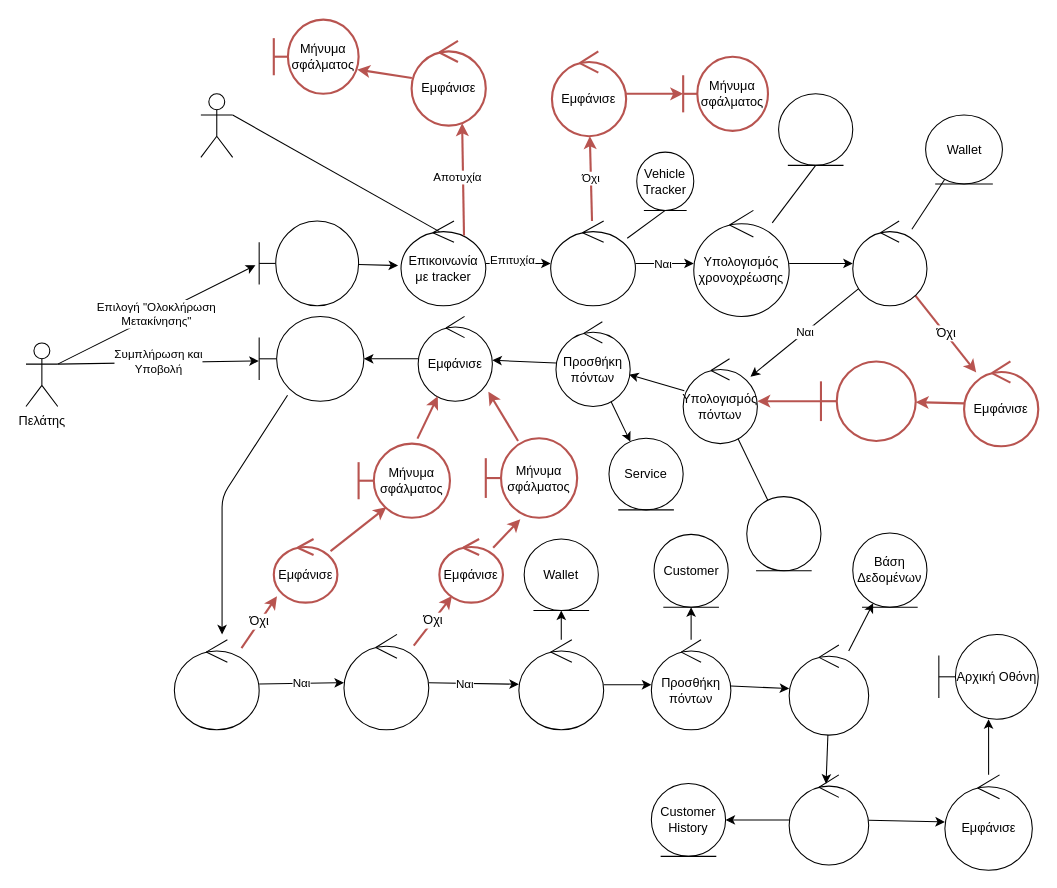
Some shapes in this 1057 by 888 pixel diagram are drawn without their labels. Here are the shapes that lost their labels. From the top down, the centre of each, then its label:
point (216, 125): Tracker
point (815, 129): Rental
point (308, 263): Οθόνη Μετακίνησης
point (592, 263): Είναι το όχημα σταματημένο
point (889, 263): Επαρκές υπόλοιπο;
point (311, 358): Επιβεβαίωση ασφάλισης οχήματος
point (867, 400): Προειδοποιητικό μήνυμα
point (783, 533): VehicleTracker
point (216, 684): Έχουν συμπληρωθεί όλα τα πεδία
point (386, 681): Φωτογραφίες εντός ορίου μεγέθους;
point (561, 684): Αφαίρεση από πορτοφόλι
point (828, 689): Ενημέρωση Βάσης
point (828, 819): Προσθήκη στο ιστορικό
